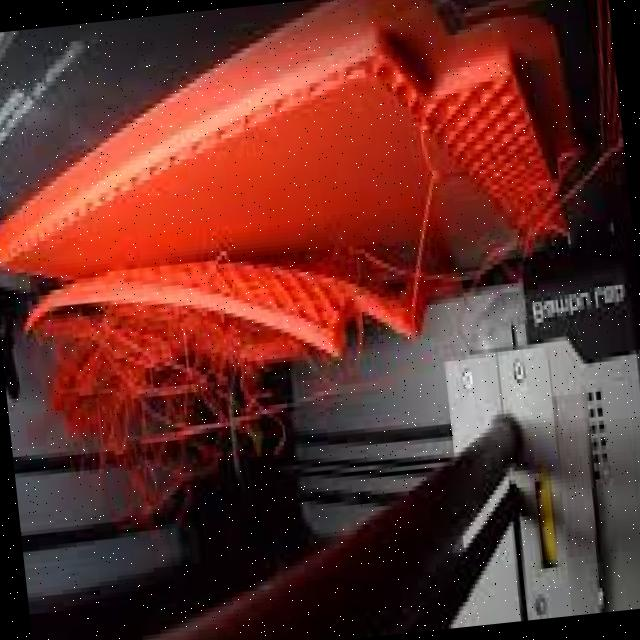spaghetti: (39, 316, 372, 528), (467, 162, 592, 330)
